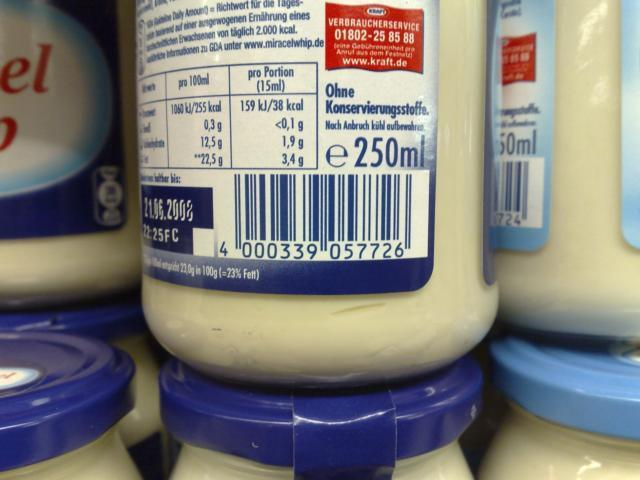Barcode: (215, 170, 428, 260)
